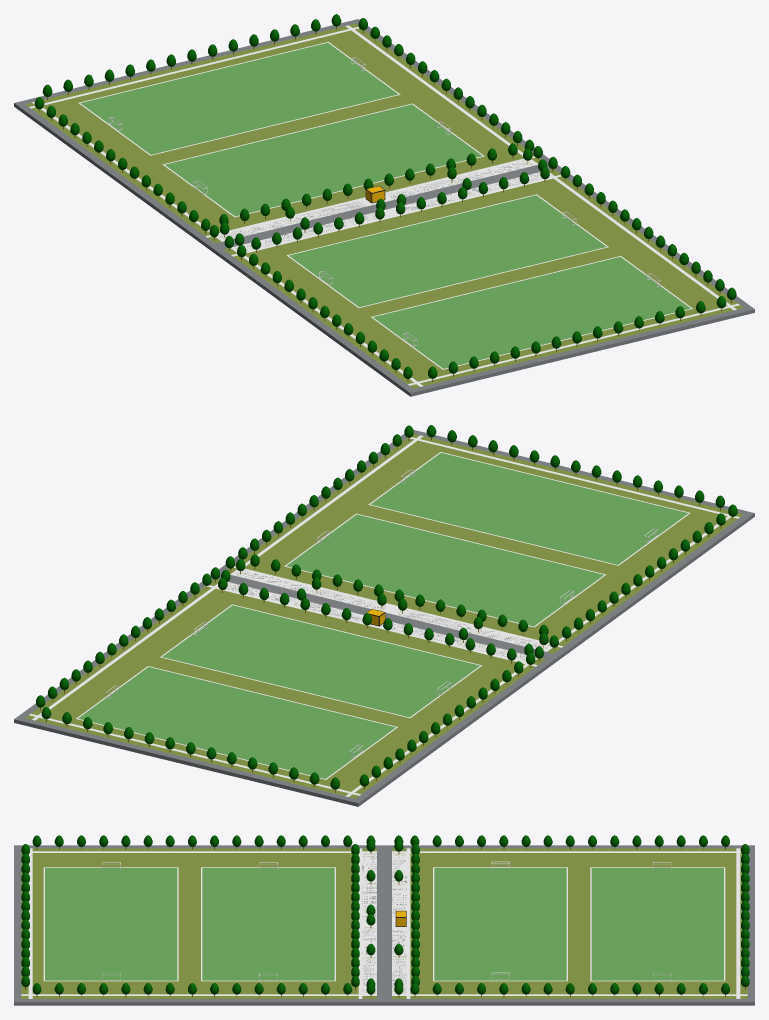
Rendered from 900_soccer.dae.
3 renders of one model, top to bottom at view 1: azimuth 30°, elevation 25°; view 2: azimuth 150°, elevation 25°; view 3: azimuth 270°, elevation 25°, orthographic. The views are drawn at different scales.
Visible parts, largest first — view 1: Component_7 (×11), Component_8 (×11); view 2: Component_7 (×11), Component_8 (×11); view 3: Component_7 (×14), Component_8 (×14).
Part boxes in pixels (x1,y1,x2,y2): Component_7 (×11): [208, 162, 754, 396]; Component_8 (×11): [14, 19, 549, 248]; Component_7 (×11): [210, 430, 754, 664]; Component_8 (×11): [14, 578, 552, 806]; Component_7 (×14): [14, 845, 391, 1005]; Component_8 (×14): [392, 845, 754, 1005].
Size of the model in its own units: 97.5 by 194 by 4.99.
